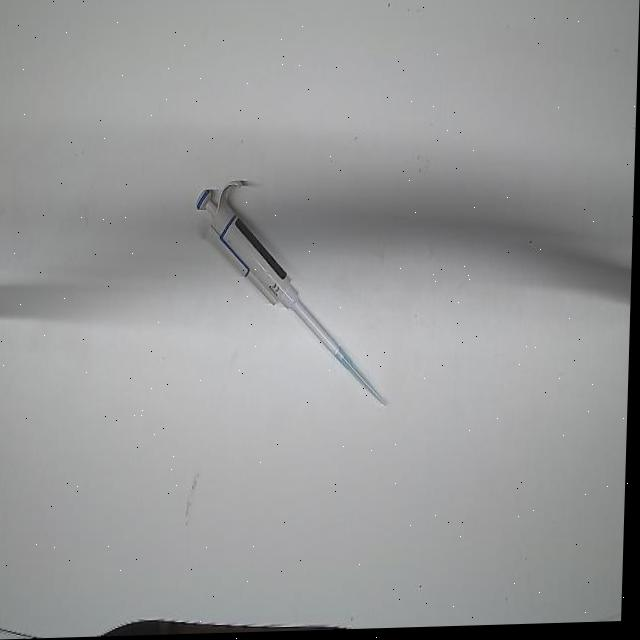Single Channel Pipettor: (192, 178, 352, 368)
